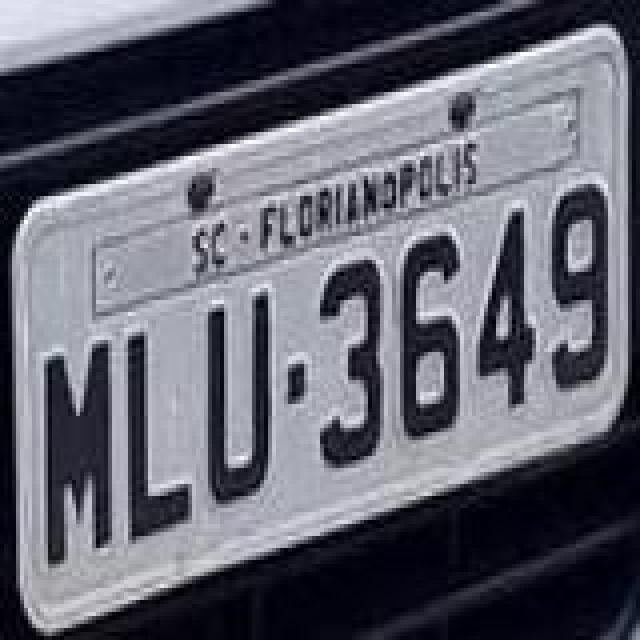3: (318, 254, 386, 474)
4: (472, 204, 536, 412)
6: (398, 228, 466, 444)
9: (548, 180, 612, 396)
L: (126, 330, 194, 550)
M: (44, 336, 116, 568)
U: (206, 288, 274, 512)
